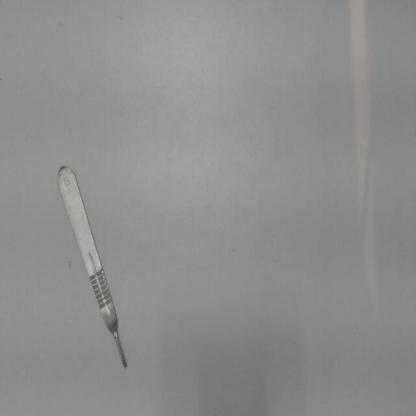No.3 BP Handle: (51, 153, 137, 384)
